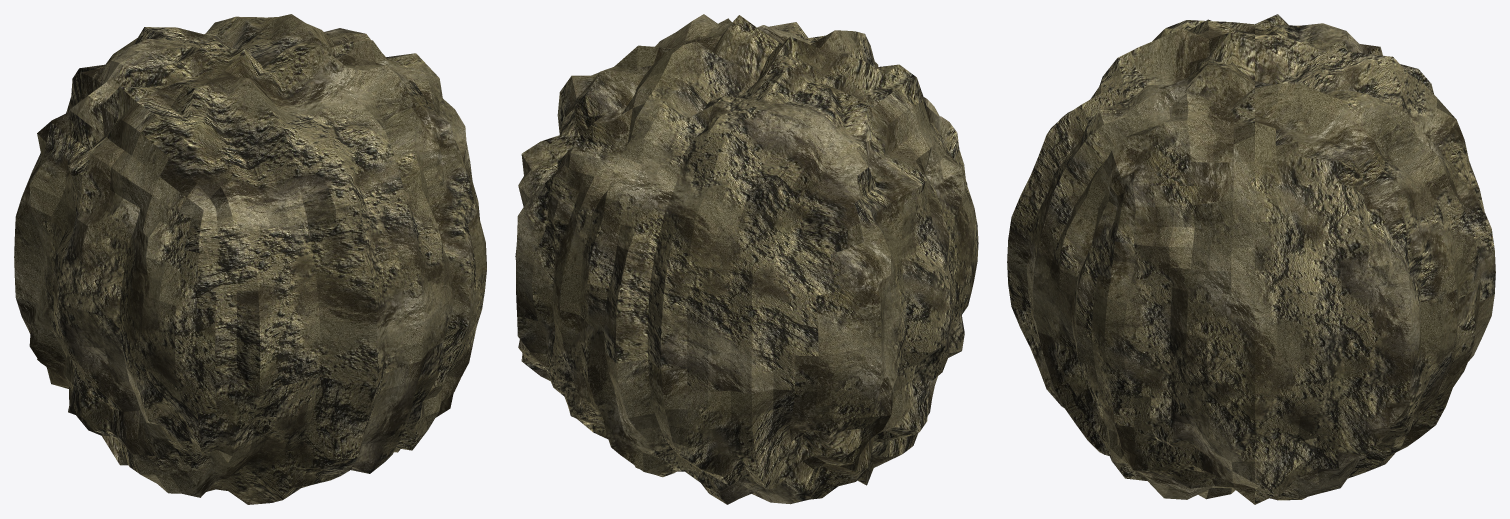
Rendered from asteroid68.obj.
3 views of the same model, side by side, from view 1: azimuth 30°, elevation 25°; view 2: azimuth 150°, elevation 25°; view 3: azimuth 270°, elevation 25° (orthographic).
Parts seen in each view (by area): view 1: Cube_Cube.002; view 2: Cube_Cube.002; view 3: Cube_Cube.002.
Boxes of the visible parts, <box> form: Cube_Cube.002: <box>14,14,486,504</box>; Cube_Cube.002: <box>515,14,978,504</box>; Cube_Cube.002: <box>1007,14,1495,504</box>.
Bounding box in the file's own units: 1.75 × 1.82 × 1.84.
